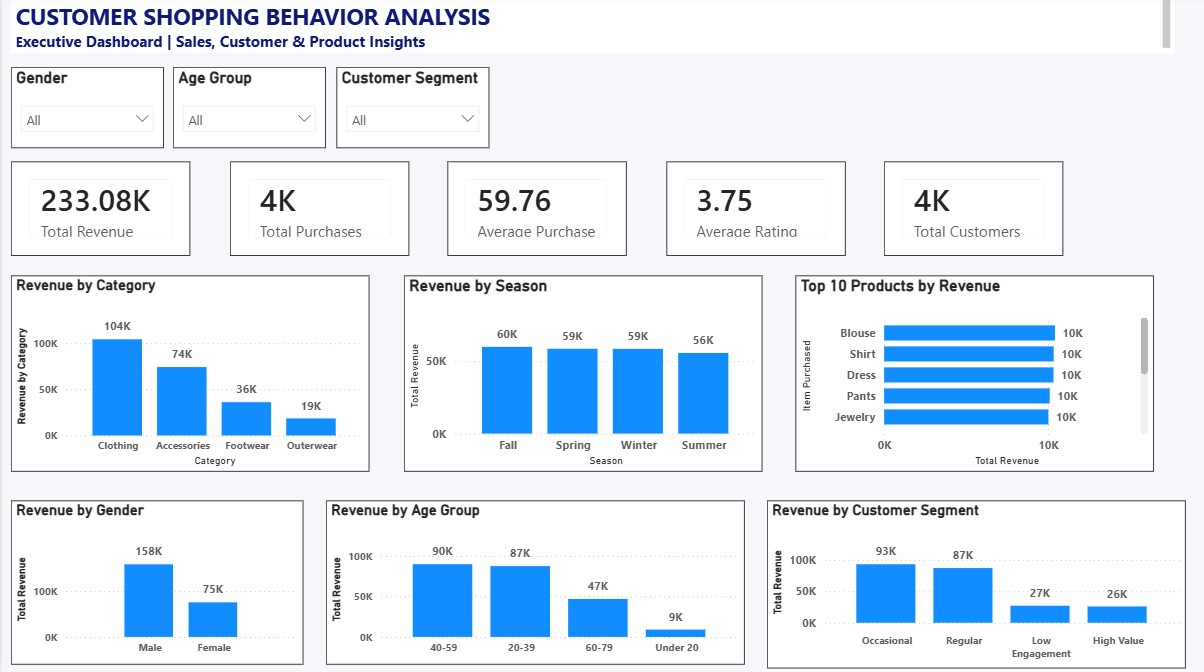

This screenshot's page, from the dashboard's own definition file:
{"tool":"powerbi","page":{"name":"Executive Dashboard","canvas":[1280,720],"ordinal":3},"visuals":[{"type":"textbox","box":[10,0,1234,62],"z":0},{"type":"slicer","title":"Gender","fields":{"Values":["Customer Shopping.Gender"]},"box":[10,76,162,86],"z":1000},{"type":"slicer","title":"Age Group","fields":{"Values":["Customer Shopping.Age Group"]},"box":[182,76,162,86],"z":2000},{"type":"slicer","title":"Customer Segment","fields":{"Values":["Customer Shopping.Customer Segment"]},"box":[354,76,162,86],"z":3000},{"type":"cardVisual","fields":{"Data":["Customer Shopping.Total Revenue"]},"box":[10,176,190,100],"z":4000},{"type":"cardVisual","fields":{"Data":["Customer Shopping.Total Purchases"]},"box":[241.5,176,190,100],"z":5000},{"type":"cardVisual","fields":{"Data":["Customer Shopping.Average Purchase"]},"box":[473,176,190,100],"z":6000},{"type":"cardVisual","fields":{"Data":["Customer Shopping.Average Rating"]},"box":[704.5,176,190,100],"z":7000},{"type":"cardVisual","fields":{"Data":["Customer Shopping.Total Customers"]},"box":[936,176,190,100],"z":8000},{"type":"clusteredColumnChart","title":"Revenue by Category","fields":{"Category":["Customer Shopping.Category"],"Y":["Customer Shopping.Total Revenue"]},"box":[10,298,380,208],"z":9000},{"type":"clusteredBarChart","title":"Top 10 Products by Revenue","fields":{"Category":["Customer Shopping.Item Purchased"],"Y":["Customer Shopping.Total Revenue"]},"box":[842,298,380,208],"z":10000},{"type":"clusteredColumnChart","title":"Revenue by Gender","fields":{"Category":["Customer Shopping.Gender"],"Y":["Customer Shopping.Total Revenue"]},"box":[10,536,310,174],"z":11000},{"type":"clusteredColumnChart","title":"Revenue by Age Group","fields":{"Category":["Customer Shopping.Age Group"],"Y":["Customer Shopping.Total Revenue"]},"box":[344,536,444,174],"z":12000},{"type":"clusteredColumnChart","title":"Revenue by Customer Segment","fields":{"Category":["Customer Shopping.Customer Segment"],"Y":["Customer Shopping.Total Revenue"]},"box":[812,536,444,178],"z":13000},{"type":"clusteredColumnChart","title":"Revenue by Season","fields":{"Category":["Customer Shopping.Season"],"Y":["Customer Shopping.Total Revenue"]},"box":[426,298,380,208],"z":14000}]}

Visuals, with their boxes in screenshot pixels (x1, y1, x2, y2), scaled from the page's 1280x720 canvas onto the 1204x672 screenshot:
textbox: locate(9, 0, 1170, 58)
"Gender" slicer: locate(9, 71, 162, 151)
"Age Group" slicer: locate(171, 71, 324, 151)
"Customer Segment" slicer: locate(333, 71, 485, 151)
cardVisual - Customer Shopping.Total Revenue: locate(9, 164, 188, 258)
cardVisual - Customer Shopping.Total Purchases: locate(227, 164, 406, 258)
cardVisual - Customer Shopping.Average Purchase: locate(445, 164, 624, 258)
cardVisual - Customer Shopping.Average Rating: locate(663, 164, 841, 258)
cardVisual - Customer Shopping.Total Customers: locate(880, 164, 1059, 258)
"Revenue by Category" clusteredColumnChart: locate(9, 278, 367, 472)
"Top 10 Products by Revenue" clusteredBarChart: locate(792, 278, 1149, 472)
"Revenue by Gender" clusteredColumnChart: locate(9, 500, 301, 663)
"Revenue by Age Group" clusteredColumnChart: locate(324, 500, 741, 663)
"Revenue by Customer Segment" clusteredColumnChart: locate(764, 500, 1181, 666)
"Revenue by Season" clusteredColumnChart: locate(401, 278, 758, 472)
